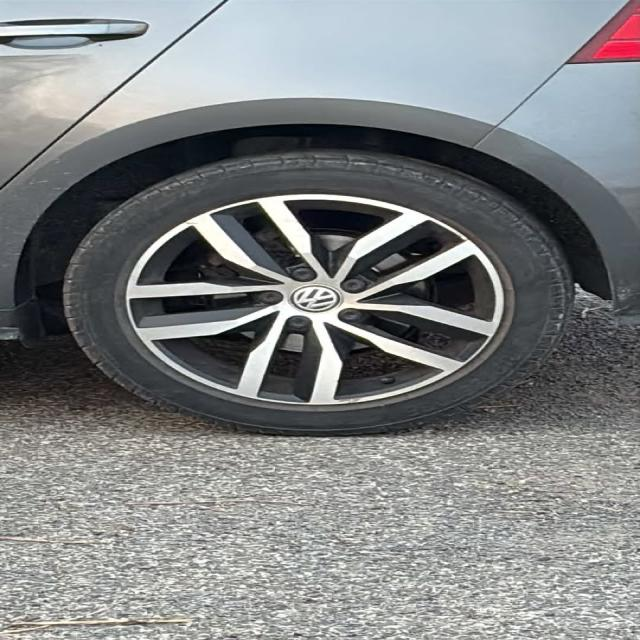jante: (124, 193, 507, 406)
parafuso: (285, 266, 319, 283), (284, 314, 314, 332), (340, 277, 367, 295), (254, 291, 286, 306), (334, 309, 365, 323)
roda: (61, 148, 576, 435)
